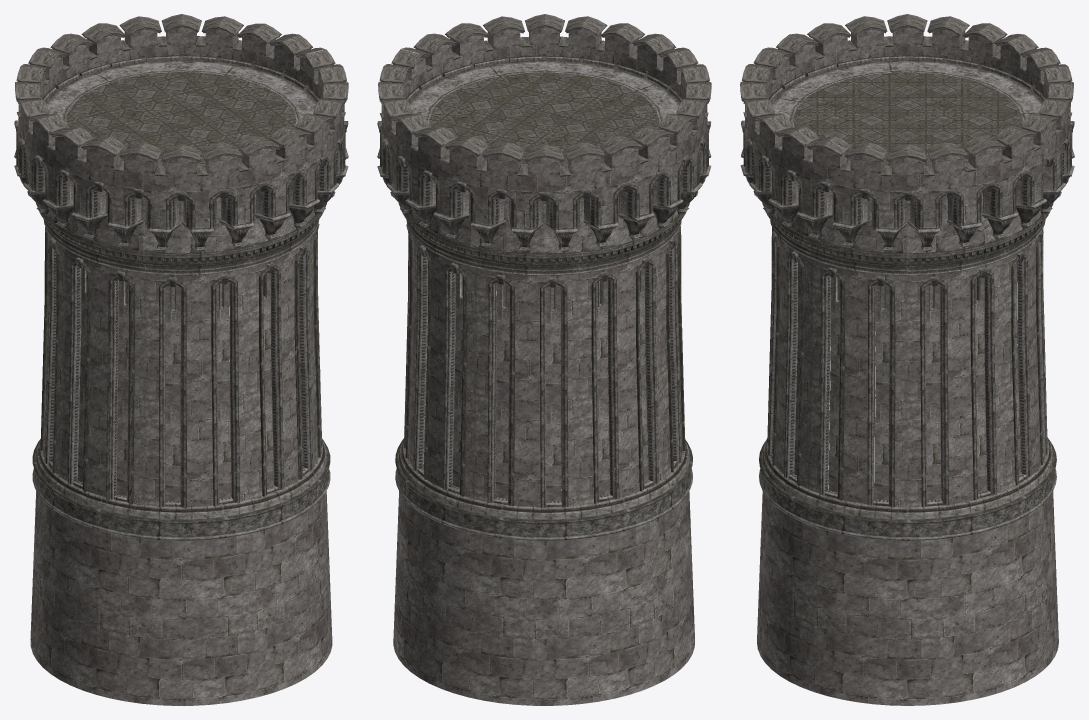
Rendered from eso_ss1_tower1-transformed.glb.
The picture shows the model from 3 angles, left to right: view 1: azimuth 30°, elevation 25°; view 2: azimuth 150°, elevation 25°; view 3: azimuth 270°, elevation 25°; orthographic projection.
Visible parts, largest first — view 1: default; view 2: default; view 3: default.
Part boxes in pixels (left/top/right/bottom): default: left=14, top=14, right=348, bottom=705; default: left=377, top=14, right=711, bottom=705; default: left=740, top=14, right=1074, bottom=705.
Size of the model in its own units: 22.53 by 41.47 by 22.56.
5 materials, 5 textured.
